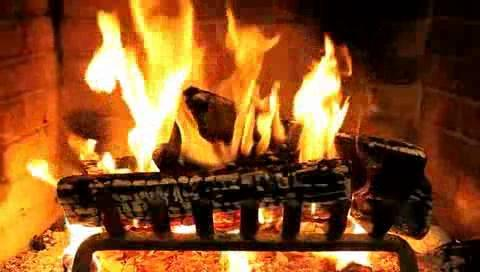fire: (87, 0, 358, 170)
